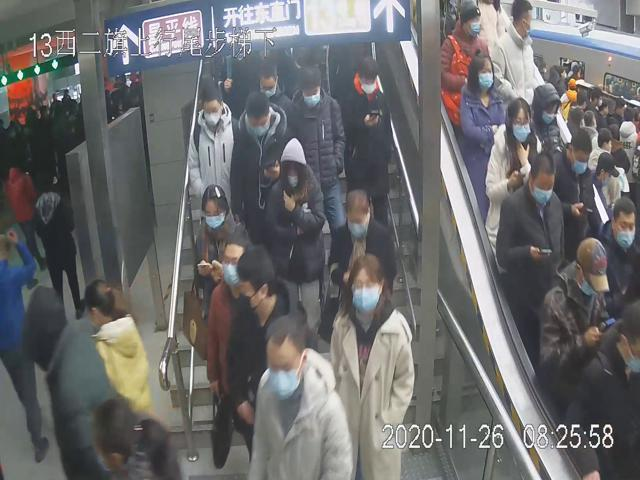person: (327, 249, 417, 480), (248, 309, 350, 480), (227, 240, 303, 445), (261, 134, 328, 344), (497, 150, 565, 332), (204, 238, 261, 450), (287, 59, 348, 237), (327, 184, 402, 327), (229, 87, 295, 244), (482, 93, 543, 262), (191, 181, 254, 329), (182, 77, 242, 224), (343, 51, 395, 220), (460, 47, 503, 209), (243, 55, 295, 138)
